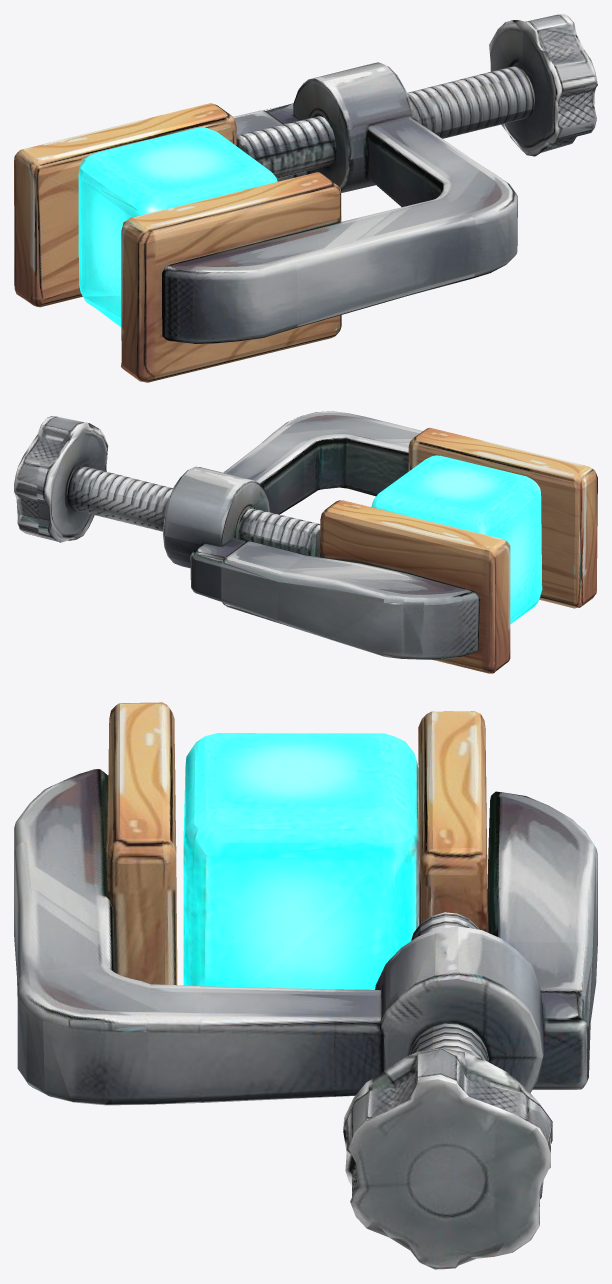
Rendered from clamp.glb.
3 views of the same model, one above another, from view 1: azimuth 30°, elevation 25°; view 2: azimuth 150°, elevation 25°; view 3: azimuth 270°, elevation 25° (orthographic). The views are drawn at different scales.
Size of the model in its own units: 1 by 0.292 by 0.6289.
1 material, 1 textured.
